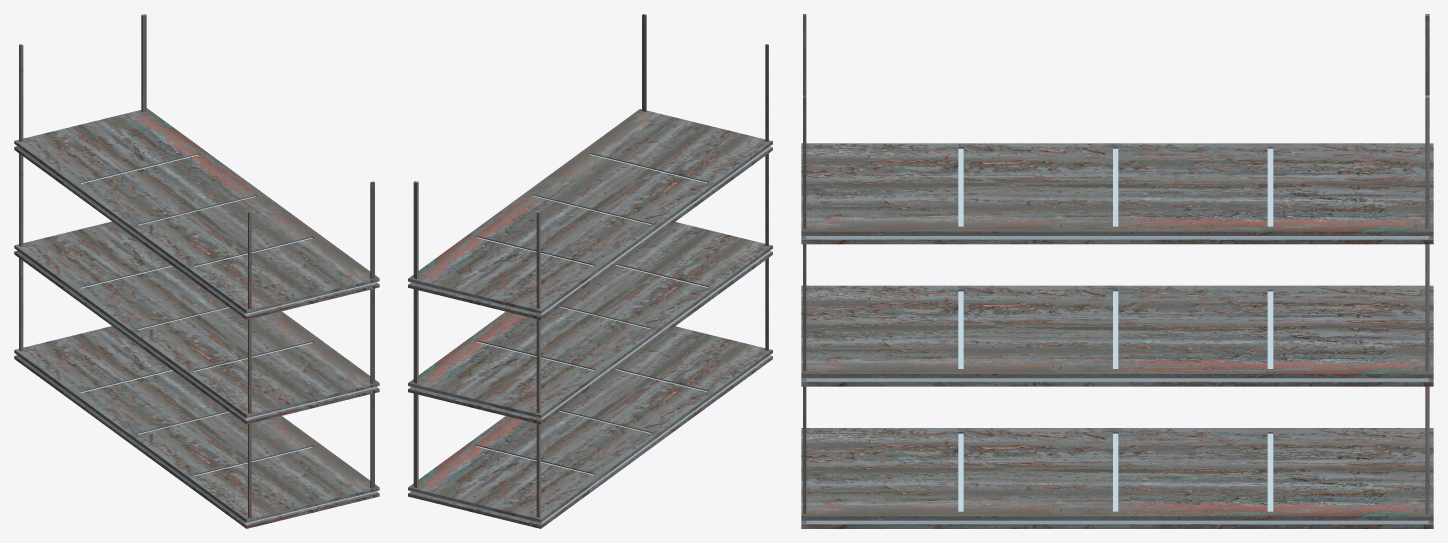
The model's file is EB_StorageshelfB.fbx.
3 renders of one model, left to right at view 1: azimuth 30°, elevation 25°; view 2: azimuth 150°, elevation 25°; view 3: azimuth 270°, elevation 25°, orthographic. The views are drawn at different scales.
Visible parts, largest first — view 1: ShelfBig.002; view 2: ShelfBig.002; view 3: ShelfBig.002.
Boxes of the visible parts, x1=… form: ShelfBig.002: x1=14, y1=14, x2=379, y2=528; ShelfBig.002: x1=408, y1=14, x2=772, y2=528; ShelfBig.002: x1=801, y1=14, x2=1433, y2=528.
Bounding box in the file's own units: 229 × 517 × 692.
